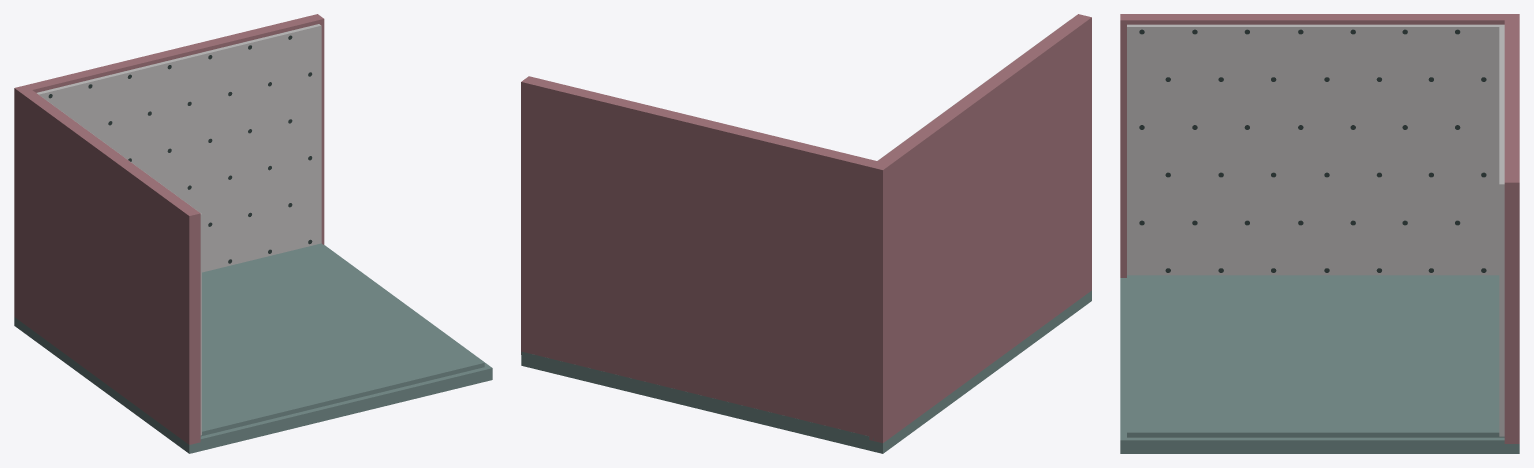
File: Furn1_wall_floor_color2_joined.fbx
3 renders of one model, left to right at view 1: azimuth 30°, elevation 25°; view 2: azimuth 150°, elevation 25°; view 3: azimuth 270°, elevation 25°, orthographic. The views are drawn at different scales.
Visible parts, largest first — view 1: Куб.082, Куб.078, Окружность; view 2: Куб.082, Куб.078; view 3: Куб.082, Куб.078, Окружность.
Boxes of the visible parts, box(x1,y1,x2,y2) form: Куб.082: box(14, 14, 324, 444); Куб.078: box(14, 243, 492, 453); Окружность: box(48, 35, 312, 263); Куб.082: box(521, 14, 1091, 443); Куб.078: box(521, 290, 1091, 453); Куб.082: box(1120, 14, 1519, 443); Куб.078: box(1120, 275, 1519, 453); Окружность: box(1139, 29, 1486, 272).
Bounding box in the file's own units: 911 × 682 × 910.
